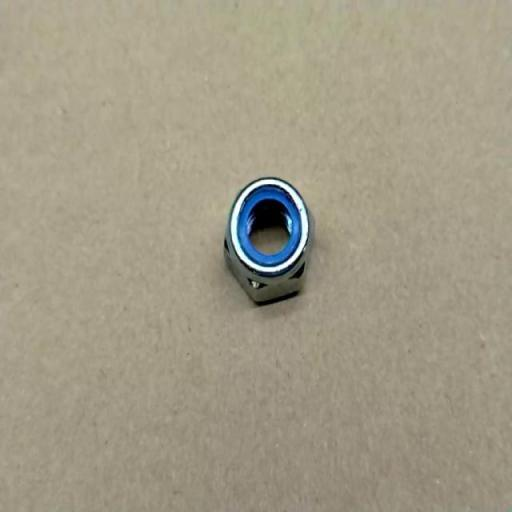Nut: (223, 176, 313, 306)
